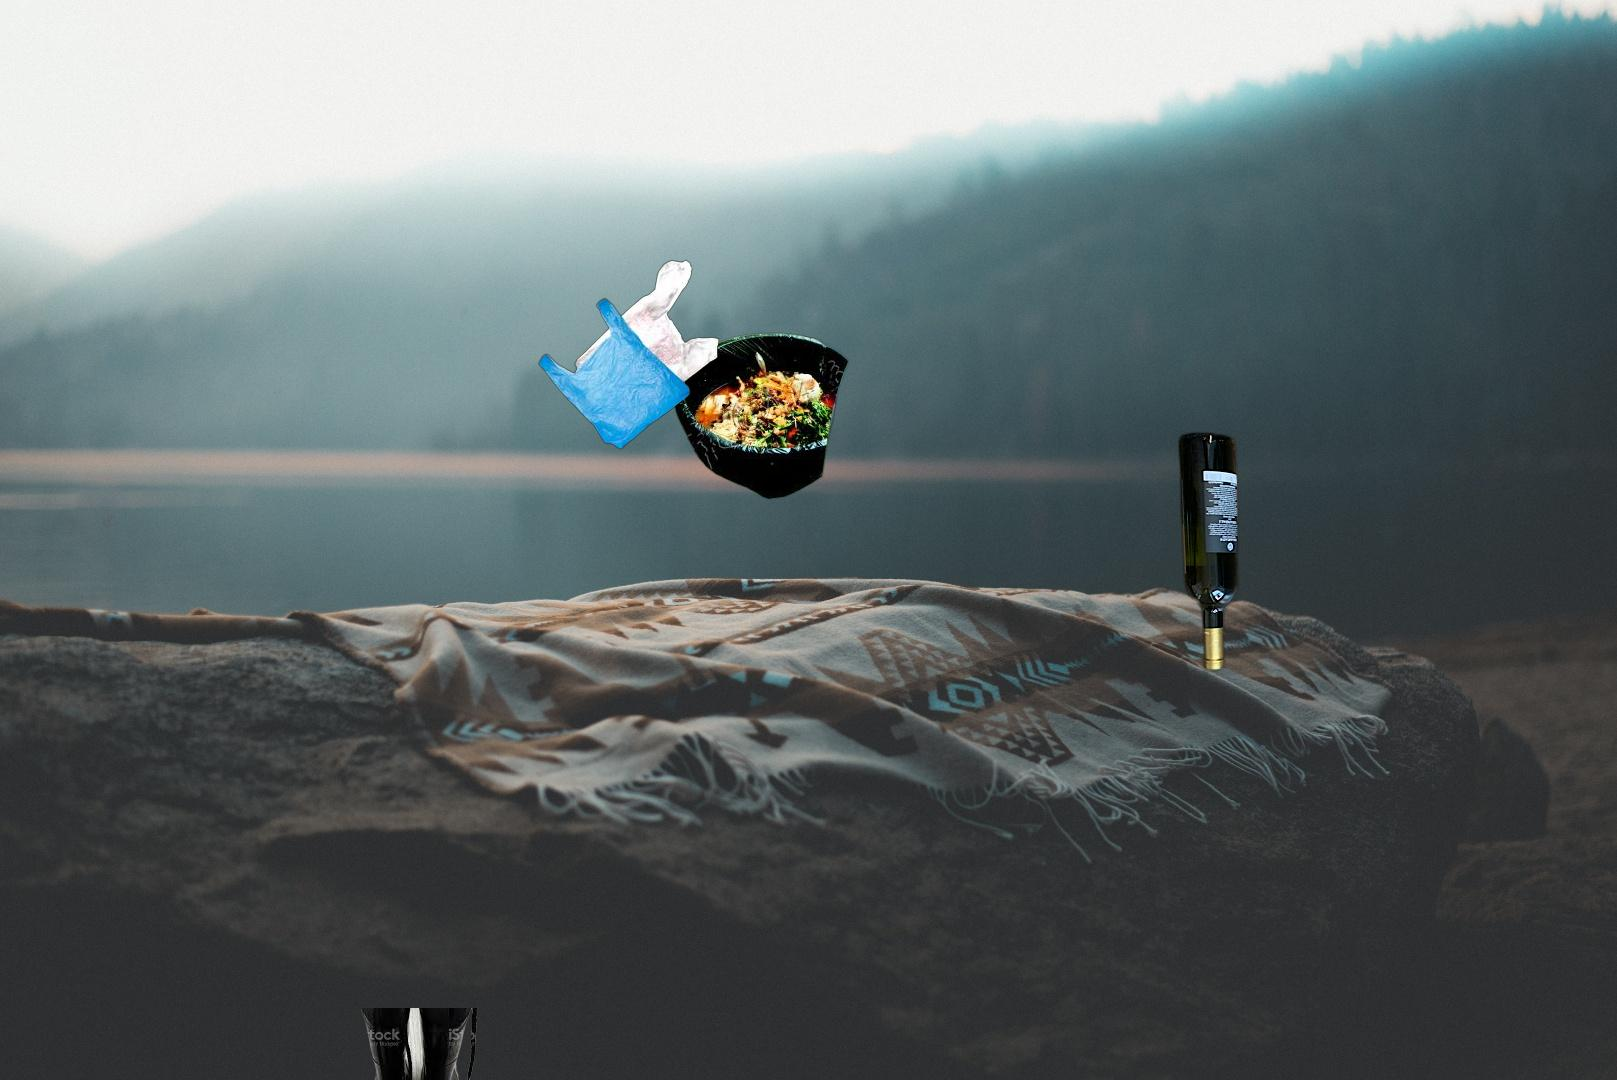biological: (672, 330, 852, 501)
glass: (1175, 425, 1243, 677)
plastic-bag: (536, 259, 721, 452)
shoes: (358, 1008, 480, 1080)
